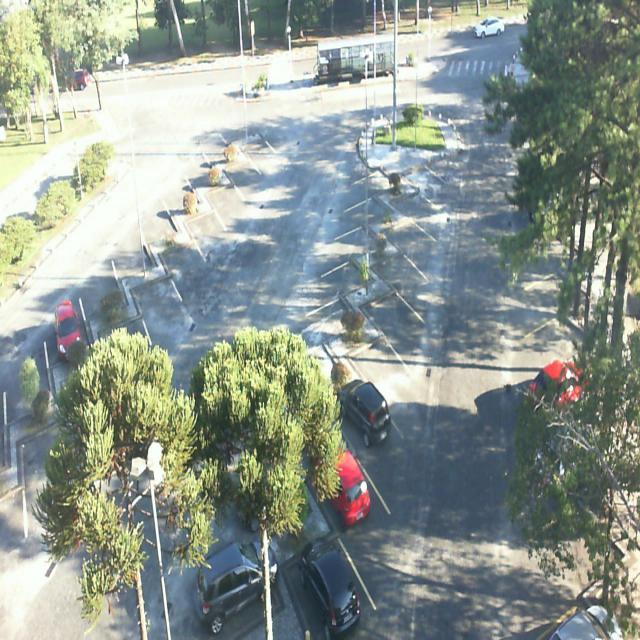space-empty: (350, 326, 412, 407), (357, 278, 416, 346), (75, 235, 124, 313), (291, 284, 354, 344), (374, 236, 430, 296), (131, 259, 176, 333), (108, 206, 152, 279), (317, 240, 372, 290), (319, 210, 376, 256), (161, 222, 200, 288), (384, 202, 434, 253), (181, 190, 222, 252), (137, 186, 178, 244), (395, 176, 443, 222), (342, 182, 392, 223), (405, 155, 451, 198), (207, 168, 246, 218), (162, 159, 198, 213), (222, 138, 260, 188), (201, 115, 237, 166), (345, 154, 393, 192), (183, 138, 218, 188), (241, 120, 274, 169)
space-occupied: (189, 524, 282, 632), (289, 507, 364, 630), (315, 449, 392, 559), (333, 380, 400, 480), (43, 278, 89, 362)
